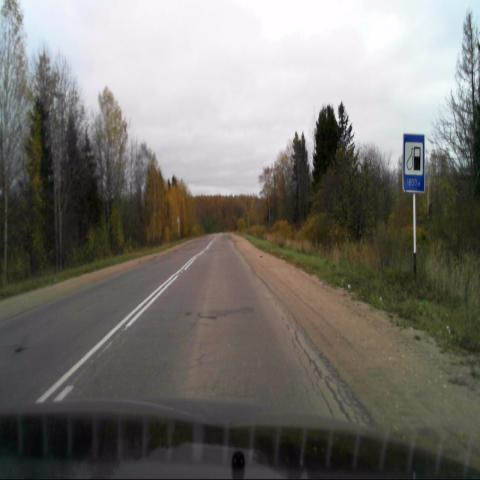7_3: (403, 134, 426, 194)
